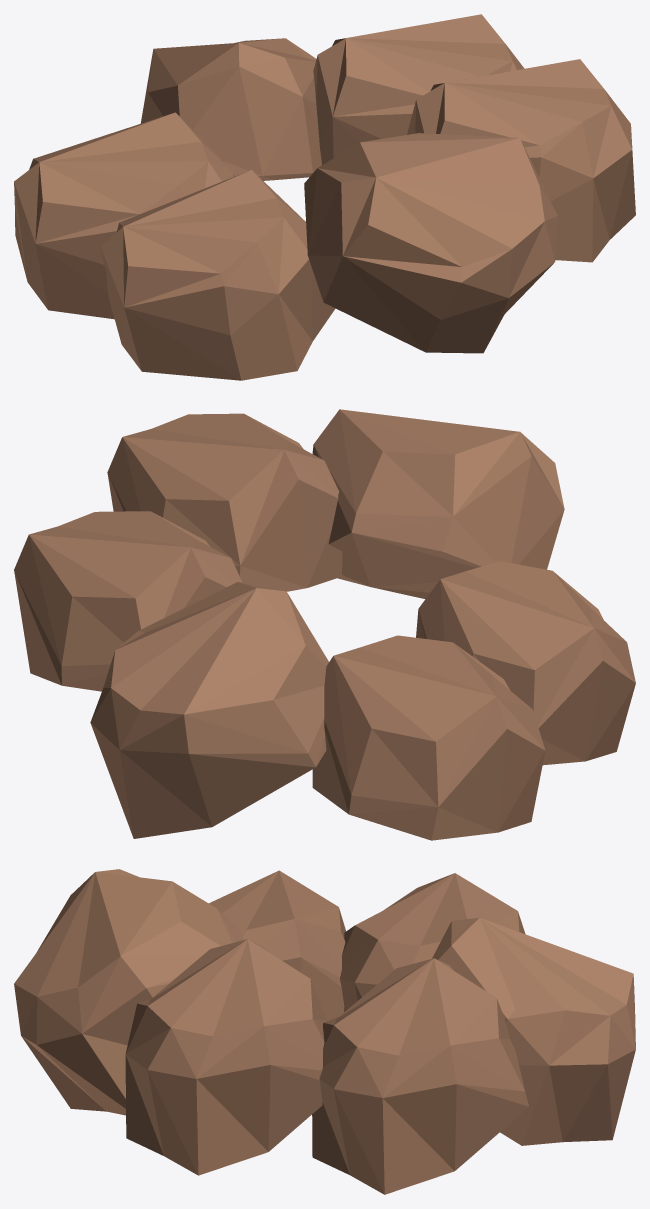
3 views of the same model, one above another, from view 1: azimuth 30°, elevation 25°; view 2: azimuth 150°, elevation 25°; view 3: azimuth 270°, elevation 25° (orthographic). The views are drawn at different scales.
Parts seen in each view (by area): view 1: HD_01; view 2: HD_01; view 3: HD_01.
Part boxes in pixels (x1=…): HD_01: x1=14, y1=14, x2=635, y2=380; HD_01: x1=14, y1=409, x2=635, y2=840; HD_01: x1=14, y1=869, x2=635, y2=1194.
Bounding box in the file's own units: 0.9908 × 0.4239 × 1.08.
